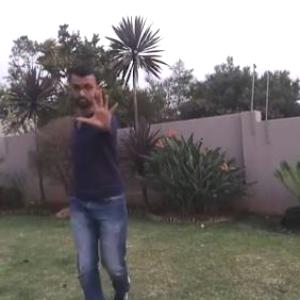follow_hand: (76, 87, 122, 131)
